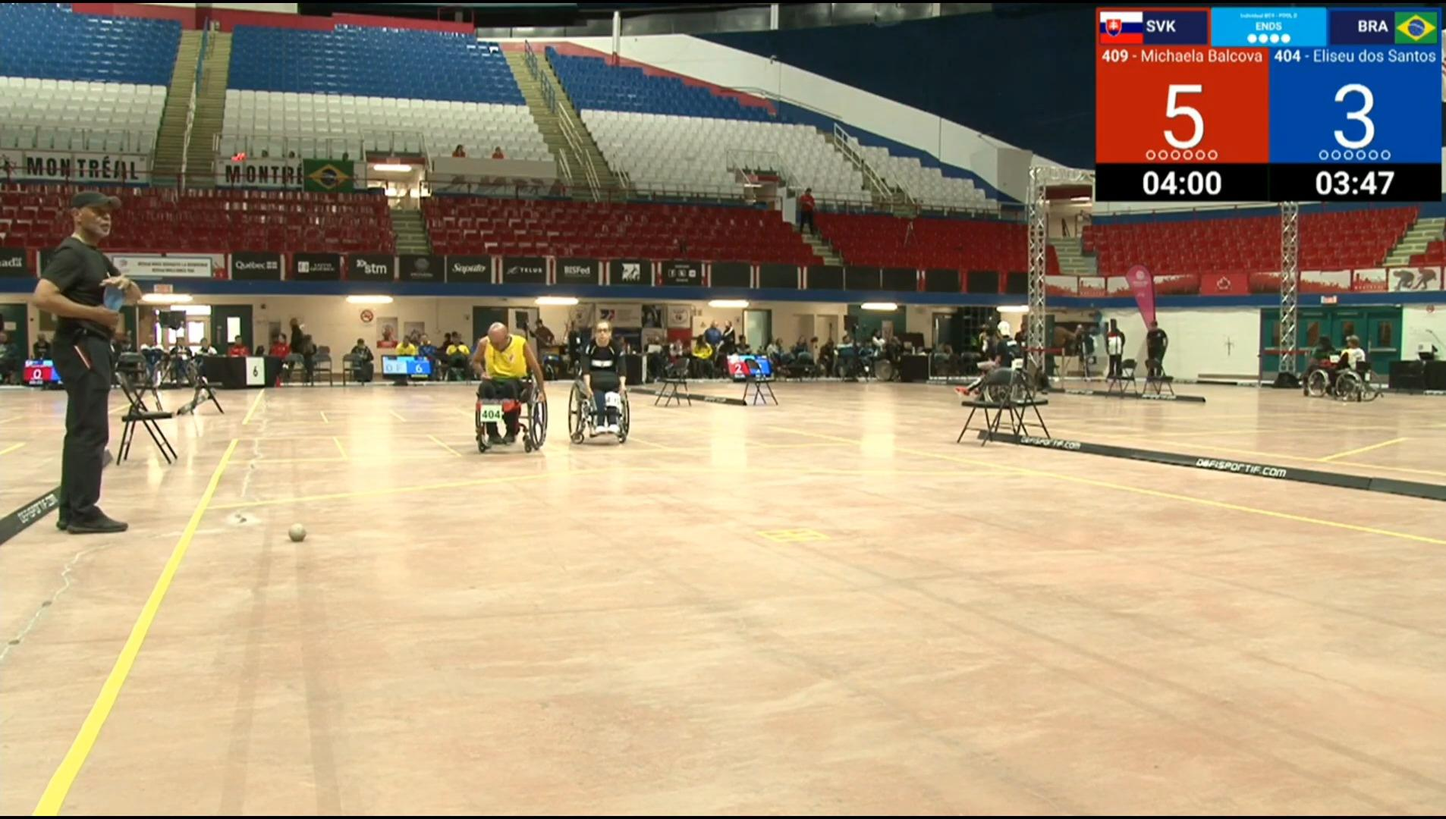white_ball: (288, 523, 306, 540)
